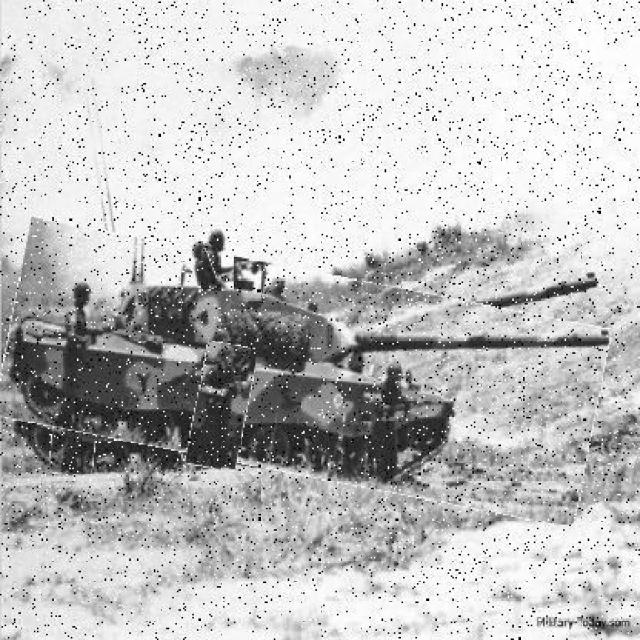Person: (192, 343, 253, 470), (55, 324, 104, 476), (201, 231, 236, 294), (189, 241, 216, 293)
Tank: (1, 244, 606, 501)
